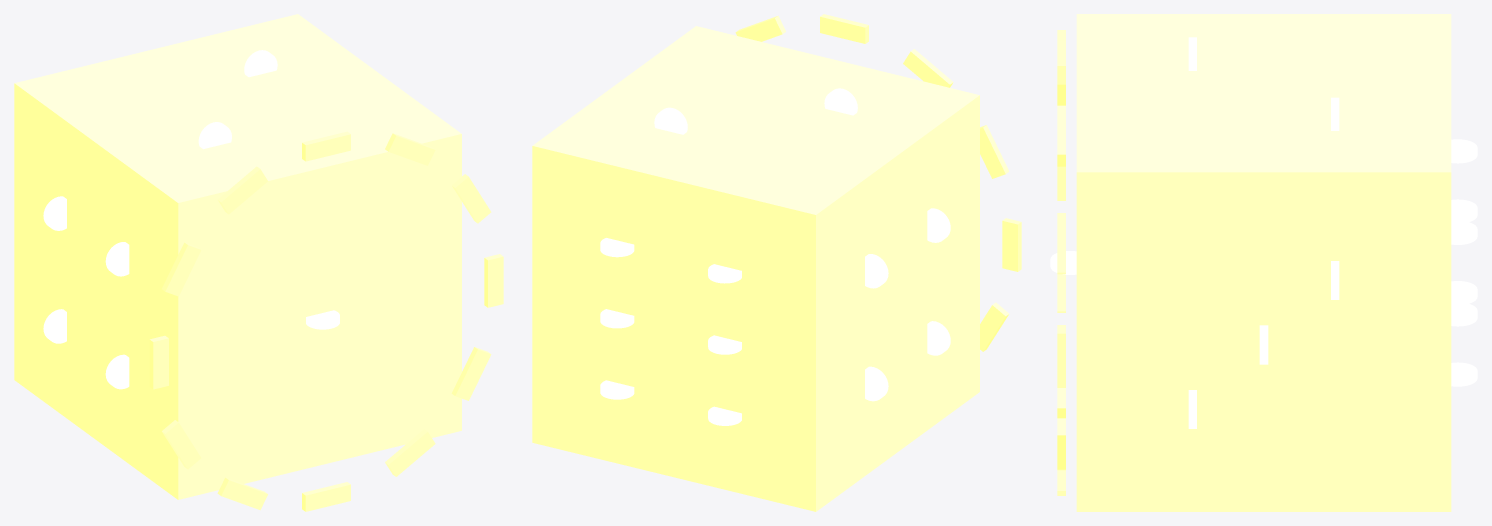
File: Dice_Gold.gltf
The picture shows the model from 3 angles, left to right: view 1: azimuth 30°, elevation 25°; view 2: azimuth 150°, elevation 25°; view 3: azimuth 270°, elevation 25°; orthographic projection. The views are drawn at different scales.
Visible parts, largest first — view 1: Dice_Gold_body, lion_mane_rune (×12), pip_4 (×4), pip_2 (×2); view 2: Dice_Gold_body, lion_mane_rune (×6), pip_4 (×4), pip_2 (×2); view 3: Dice_Gold_body, pip_6 (×6), lion_mane_rune (×3).
Boxes of the visible parts, x1,y1,x2,y2 form: Dice_Gold_body: (14,14,461,499); lion_mane_rune (×12): (149,131,503,511); pip_4 (×4): (43,196,129,389); pip_2 (×2): (198,50,277,149); Dice_Gold_body: (532,26,979,511); lion_mane_rune (×6): (735,14,1021,351); pip_4 (×4): (865,208,950,401); pip_2 (×2): (654,88,857,134); Dice_Gold_body: (1076,14,1451,511); pip_6 (×6): (1451,139,1477,386); lion_mane_rune (×3): (1057,105,1065,387).
Bounding box in the file's own units: 2.47 × 2.47 × 2.28.
